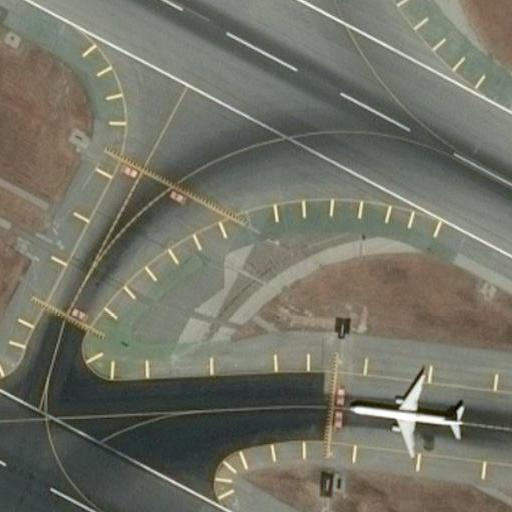Aircraft: (343, 361, 465, 465)
